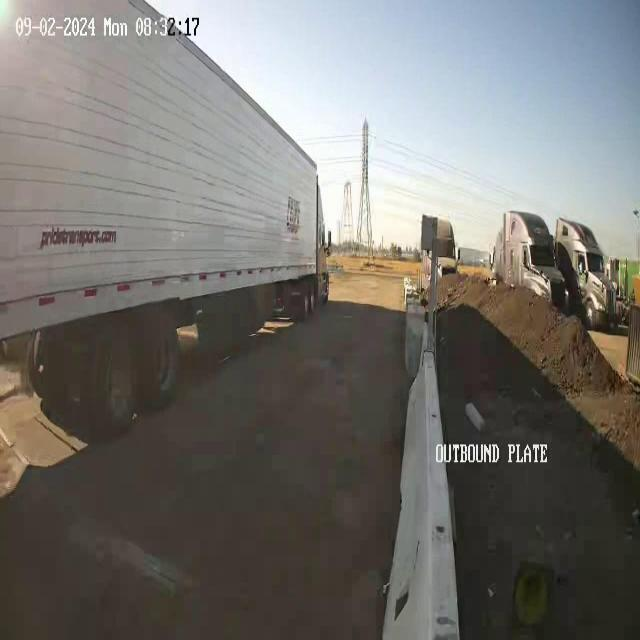TRUCK_IN: (1, 0, 330, 430)
